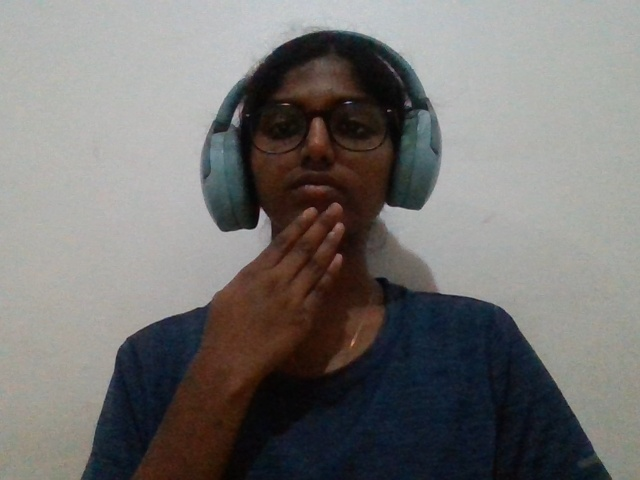Thanks: (161, 169, 378, 434)
